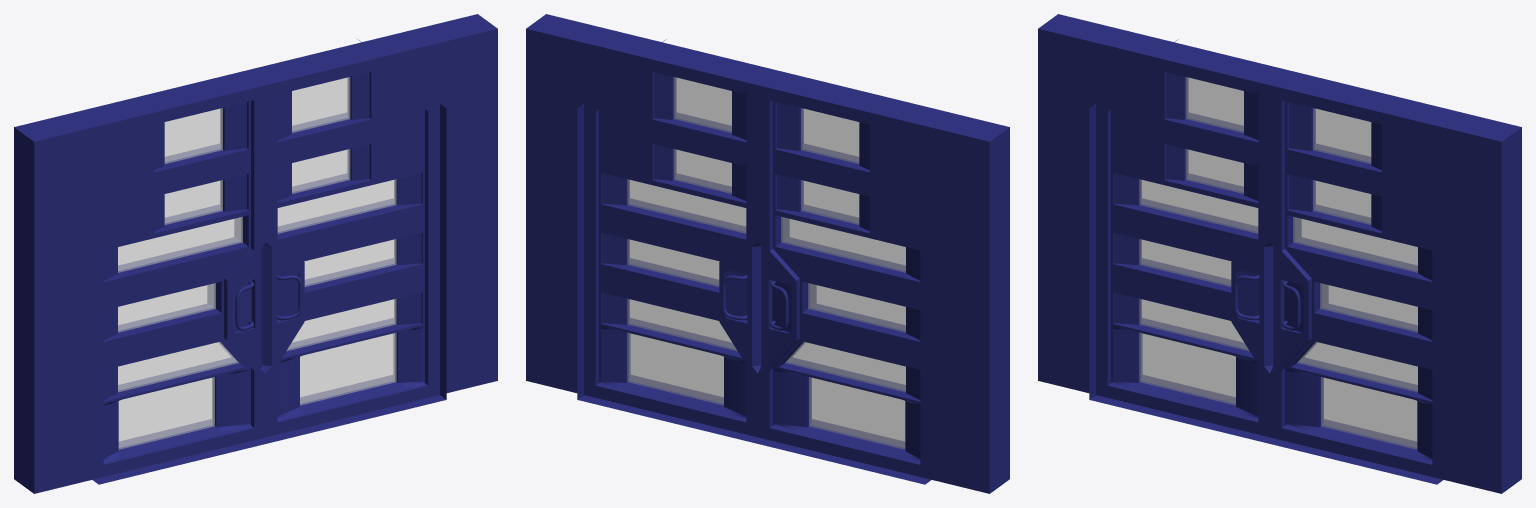
The model's file is Wall_A_4x4m_Door_Ex_Door.FBX.
3 views of the same model, side by side, from view 1: azimuth 30°, elevation 25°; view 2: azimuth 150°, elevation 25°; view 3: azimuth 330°, elevation 25° (orthographic).
Visible parts, largest first — view 1: Wall_A_Door_L, Wall_A_Door_R, Wall_A_4x4m_Door_Ex_Door; view 2: Wall_A_Door_L, Wall_A_Door_R, Wall_A_4x4m_Door_Ex_Door; view 3: Wall_A_Door_R, Wall_A_Door_L, Wall_A_4x4m_Door_Ex_Door.
Part boxes in pixels (box(x1,y1,x2,y2)): Wall_A_Door_L: box(14, 70, 265, 493); Wall_A_Door_R: box(246, 14, 497, 437); Wall_A_4x4m_Door_Ex_Door: box(92, 39, 446, 484); Wall_A_Door_L: box(758, 70, 1009, 493); Wall_A_Door_R: box(526, 14, 777, 437); Wall_A_4x4m_Door_Ex_Door: box(577, 39, 931, 484); Wall_A_Door_R: box(1270, 70, 1521, 493); Wall_A_Door_L: box(1038, 14, 1289, 437); Wall_A_4x4m_Door_Ex_Door: box(1089, 39, 1443, 484).
Size of the model in its own units: 400 by 290 by 50.
